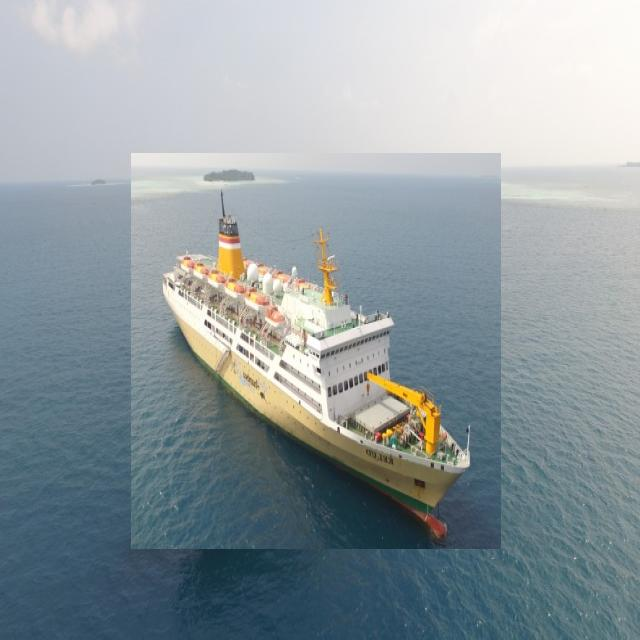PassengerShip: (131, 153, 501, 550)
